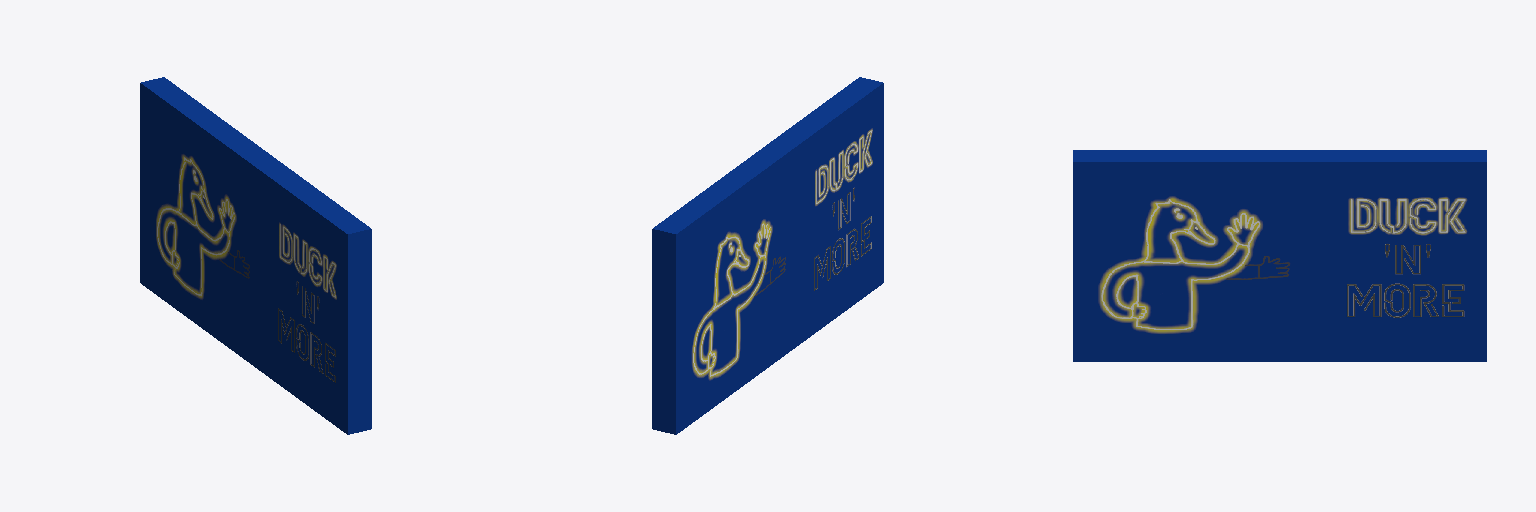
3 renders of one model, left to right at view 1: azimuth 30°, elevation 25°; view 2: azimuth 150°, elevation 25°; view 3: azimuth 270°, elevation 25°, orthographic.
Parts seen in each view (by area): view 1: Cube.006; view 2: Cube.006; view 3: Cube.006.
Part boxes in pixels (x1,y1,x2,y2): Cube.006: (140, 77, 371, 434); Cube.006: (652, 77, 883, 434); Cube.006: (1073, 150, 1486, 361).
Bounding box in the file's own units: 0.2 × 1.6 × 3.
1 materials, 1 textured.